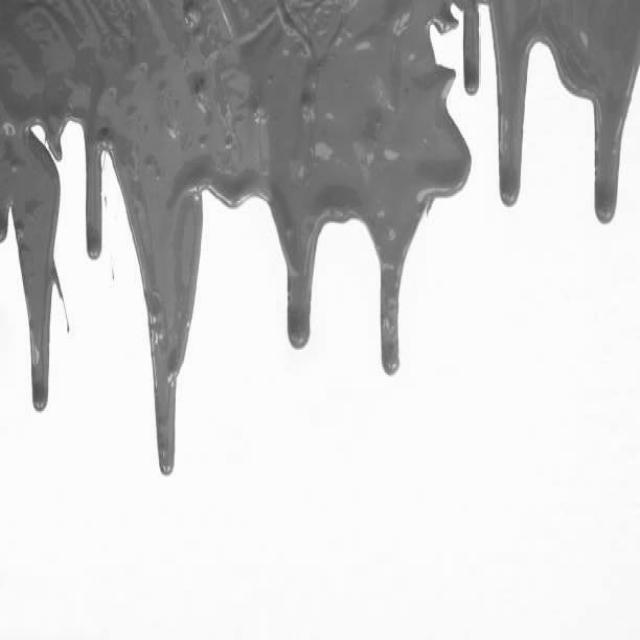paint drips: (0, 93, 423, 483), (422, 0, 640, 253)
